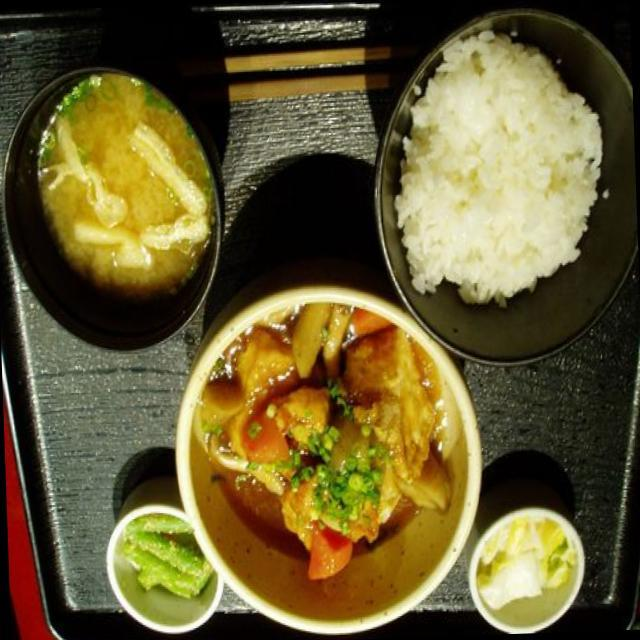Rice: (392, 34, 600, 310)
